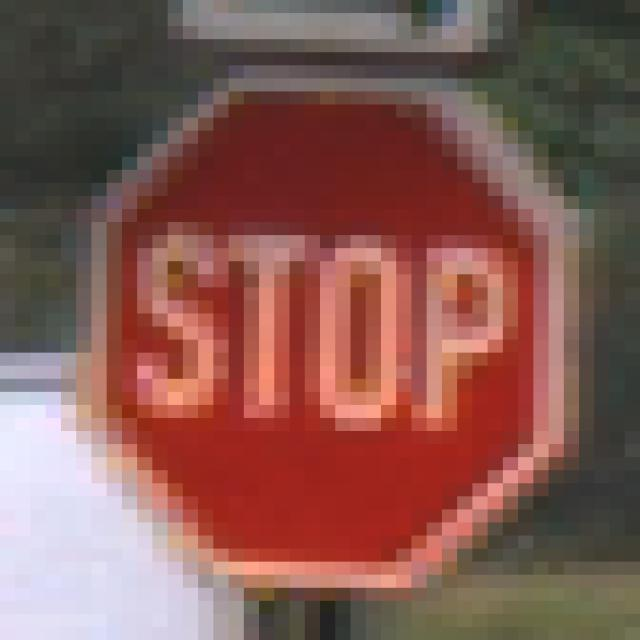STOP: (77, 66, 550, 576)
